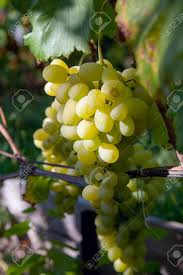grapes: (43, 59, 149, 270)
